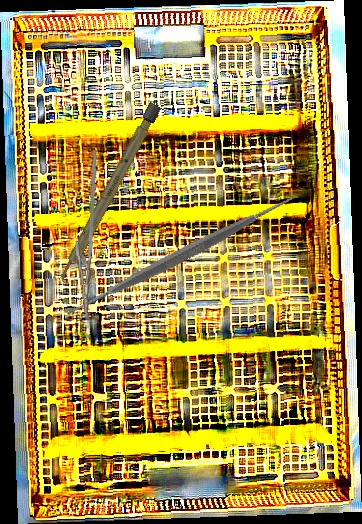Needle Holder: (60, 149, 109, 320)
Scalpel Handle: (56, 102, 162, 285)
Spatula Surgical: (54, 126, 310, 383)
